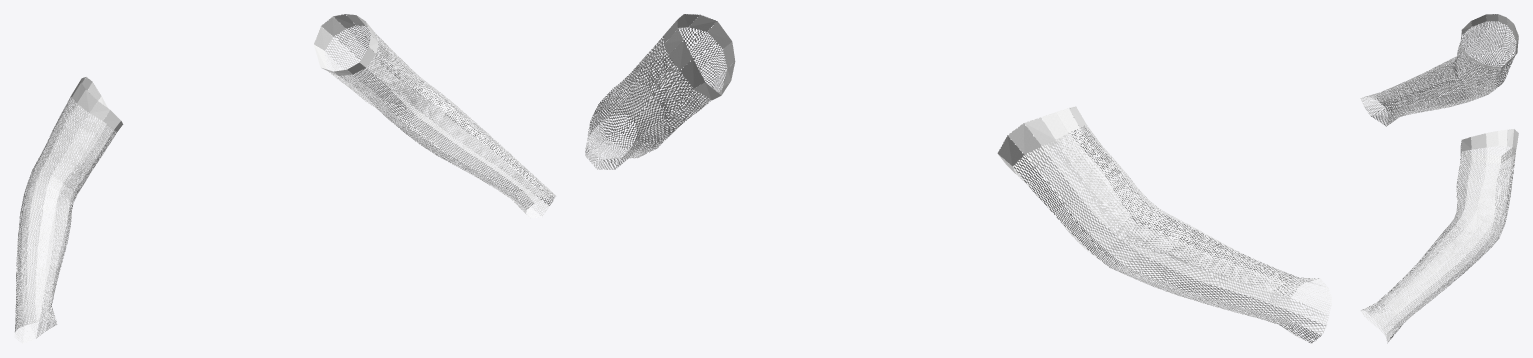
The model's file is mhw_v0rt3x_armsleeves_white_fishnet_small.glb.
3 views of the same model, side by side, from view 1: azimuth 30°, elevation 25°; view 2: azimuth 150°, elevation 25°; view 3: azimuth 270°, elevation 25° (orthographic). The views are drawn at different scales.
Visible parts, largest first — view 1: mhw_v0rt3x_armsleeves_white_fishnet_small; view 2: mhw_v0rt3x_armsleeves_white_fishnet_small; view 3: mhw_v0rt3x_armsleeves_white_fishnet_small.
Part boxes in pixels (<box>): mhw_v0rt3x_armsleeves_white_fishnet_small: <box>14,14,555,343</box>; mhw_v0rt3x_armsleeves_white_fishnet_small: <box>585,14,1331,343</box>; mhw_v0rt3x_armsleeves_white_fishnet_small: <box>1360,14,1518,343</box>.
Size of the model in its own units: 1.14 by 0.3737 by 0.3332.
1 material, 1 textured.
